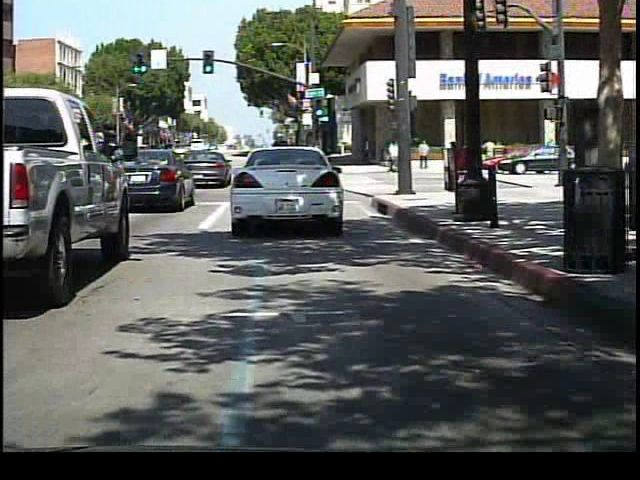person: (480, 135, 499, 171), (416, 138, 432, 170), (386, 138, 398, 175)
